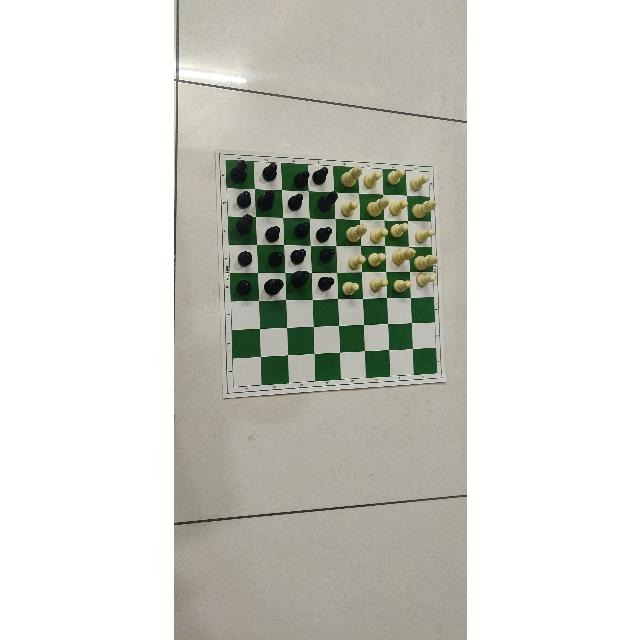black-bishop: (229, 158, 249, 183), (315, 190, 337, 212), (233, 213, 252, 237), (257, 190, 275, 212), (291, 270, 311, 288), (264, 278, 284, 296)
black-pawn: (290, 169, 309, 190), (261, 161, 278, 182), (286, 192, 303, 212), (312, 167, 329, 187), (234, 190, 251, 209), (266, 251, 284, 268), (293, 221, 311, 238), (289, 249, 307, 265), (237, 250, 253, 267), (264, 225, 280, 242), (316, 227, 332, 243), (318, 249, 334, 265), (318, 276, 334, 292), (236, 279, 251, 296)
white-bishop: (339, 166, 363, 187), (367, 196, 391, 216), (412, 199, 437, 218), (391, 248, 417, 266), (344, 224, 367, 244), (413, 254, 438, 270)
white-pawn: (409, 173, 430, 191), (339, 199, 359, 217), (363, 170, 383, 188), (414, 227, 435, 244), (369, 226, 388, 244), (386, 167, 405, 184), (391, 221, 408, 239), (348, 254, 365, 272), (416, 273, 436, 288), (370, 277, 388, 293), (368, 252, 386, 267), (340, 281, 358, 296), (393, 279, 410, 294), (390, 200, 408, 214)
